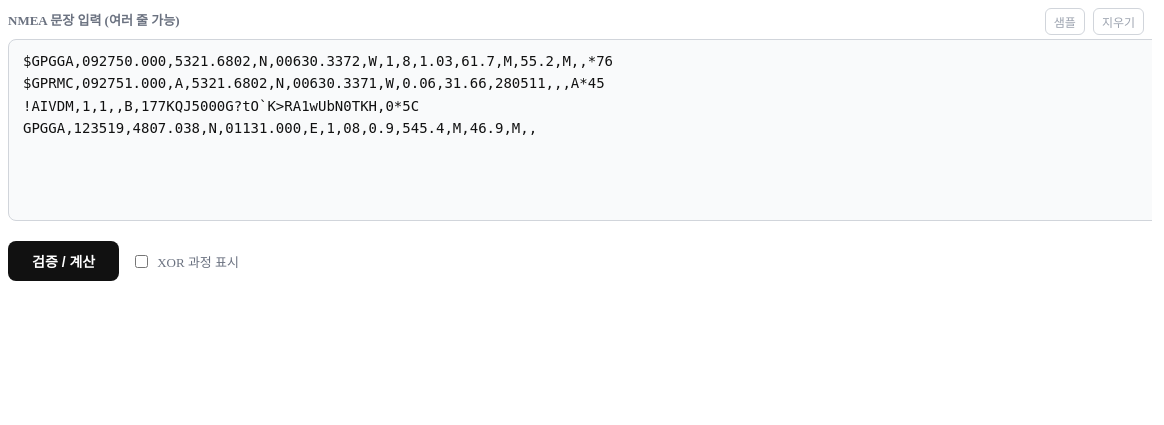
Scenario: NmeaChecksum › * 없는 본문 입력 시 계산 모드 결과 렌더
Step 1. Replace the text in the text box with "$GPGGA,092750.000,5321.6802,N,00630.3372,W,1,8,1.03,61.7,M,55.2,M,," → [580, 130], box [8,39,1152,221]
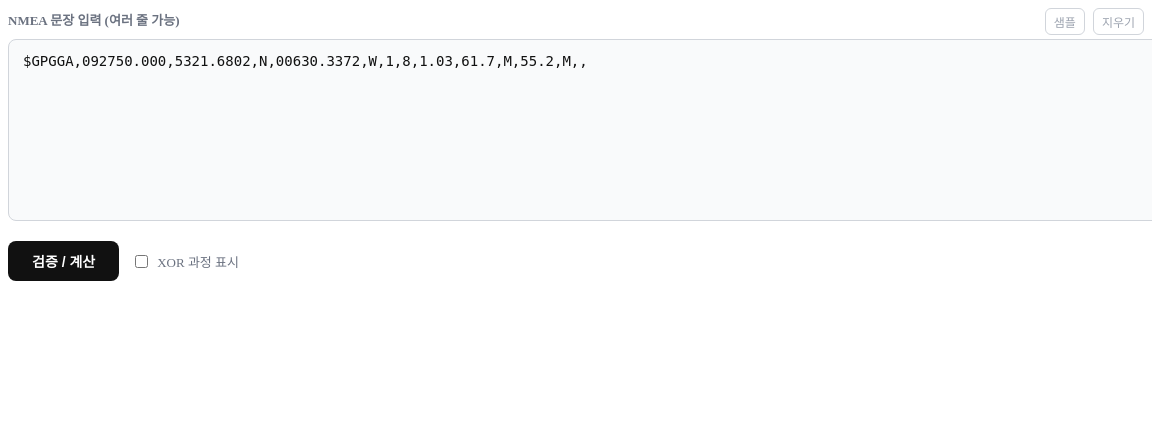
Step 2. Click the button "검증 / 계산" → [64, 261], box [8,241,119,281]
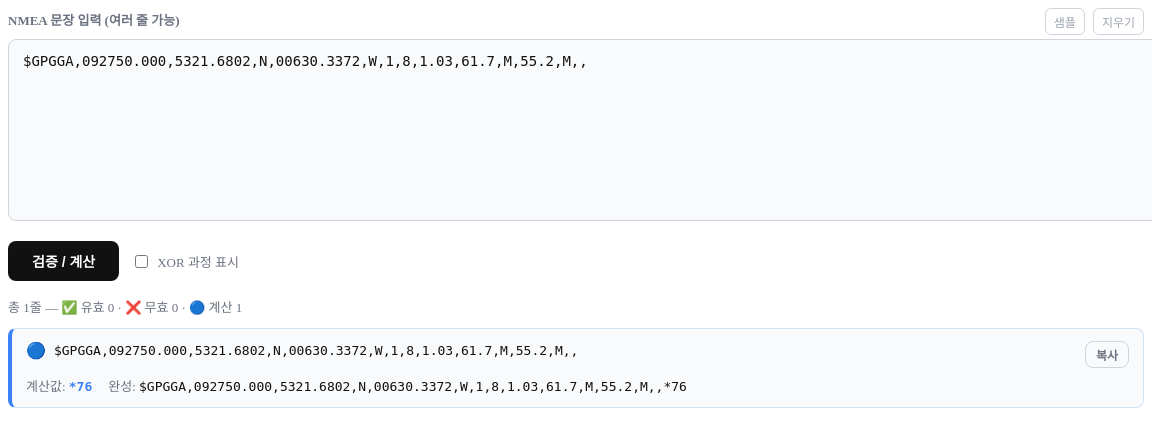
expect the text "*76" is shown: met, box [69,379,92,394]
